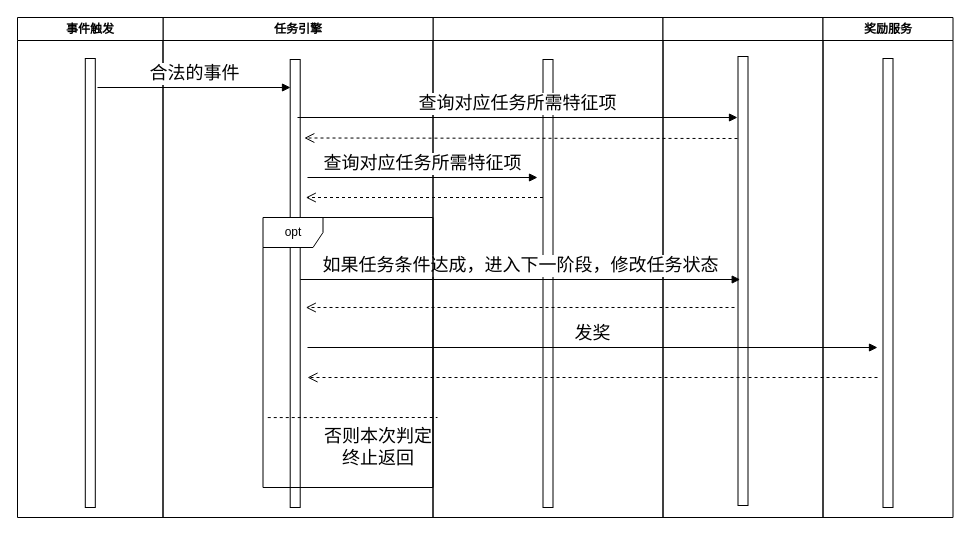
The diagram is 971 pixels wide and 535 high, and some of its shapes have lost their labels. The shapes that lost their labels are listed below. From the top down, each one's box as (x1, y1, x2, y2) in pixels, then its label:
(432, 16, 663, 518): 特征服务
(662, 16, 823, 518): 任务存储
